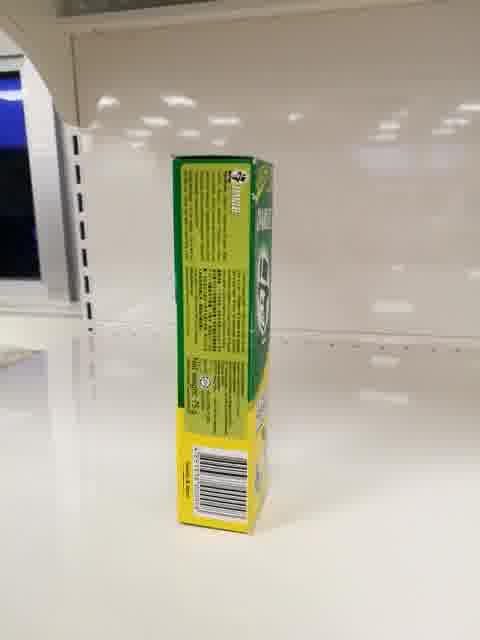toothpaste: (172, 154, 273, 536)
